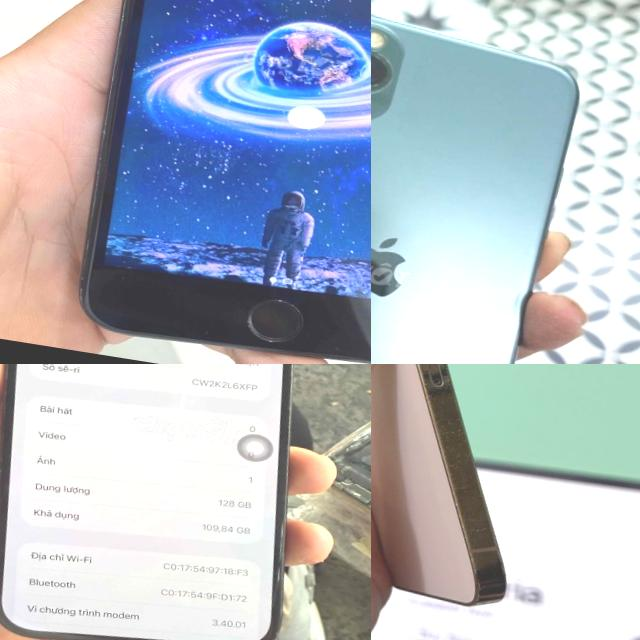gen_11: (371, 0, 598, 364)
gen_12_13: (371, 364, 590, 622)
gen_15: (0, 364, 371, 640)
gen_7_8: (61, 0, 371, 364)
